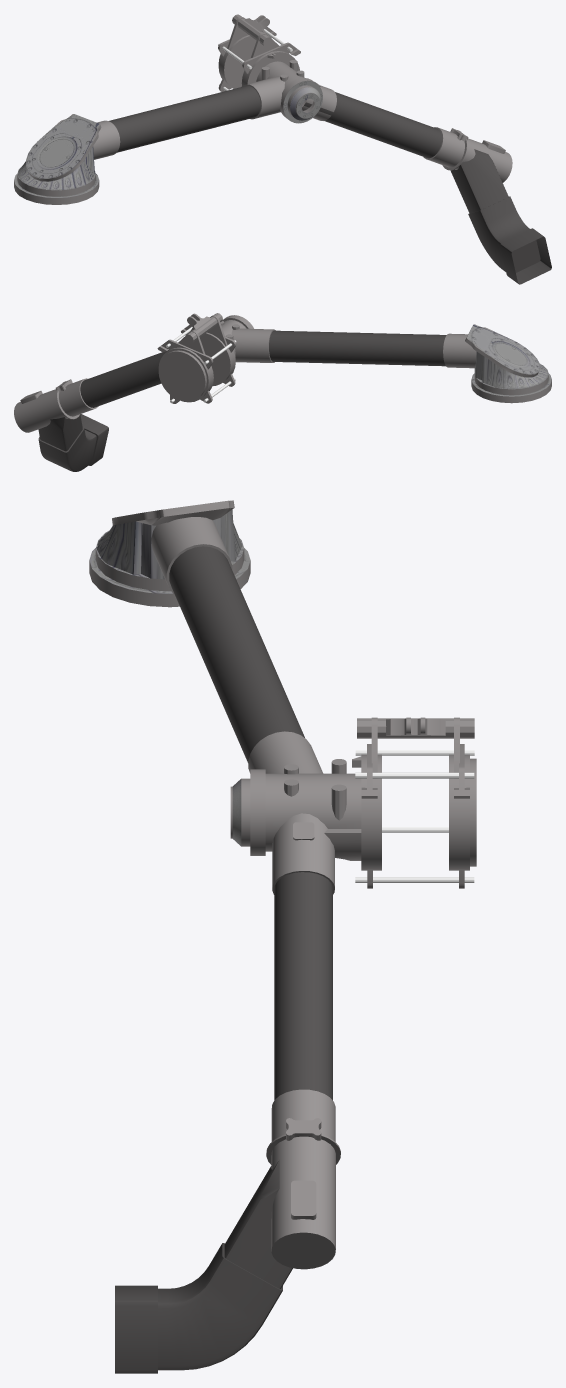
File: susp_right_back.glb
The picture shows the model from 3 angles, top to bottom: view 1: azimuth 30°, elevation 25°; view 2: azimuth 150°, elevation 25°; view 3: azimuth 270°, elevation 25°; orthographic projection. The views are drawn at different scales.
Visible parts, largest first — view 1: suspension.007; view 2: suspension.007; view 3: suspension.007.
Boxes of the visible parts, x1,y1,x2,y2 form: suspension.007: (14,14,551,284); suspension.007: (14,313,551,471); suspension.007: (89,500,476,1373).
Size of the model in its own units: 1.22 by 0.5628 by 0.414.
Materials: 4 (1 with a texture image).
